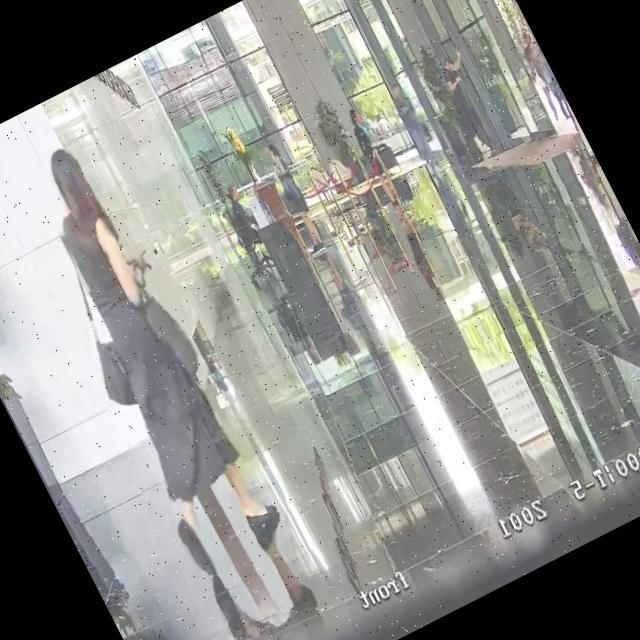person: (0, 135, 257, 518), (164, 493, 262, 640), (432, 47, 508, 157), (258, 140, 328, 252), (508, 22, 576, 128), (214, 182, 280, 278), (343, 108, 405, 210), (386, 80, 446, 180)
